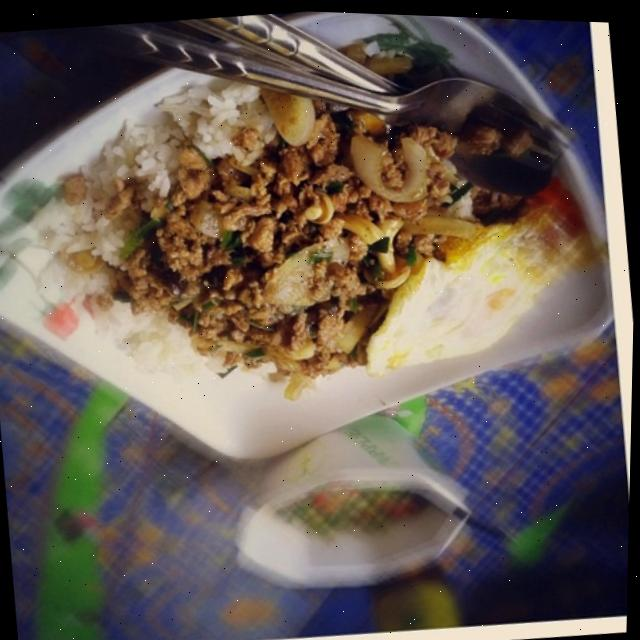牛肉菜式: (0, 17, 592, 515)
